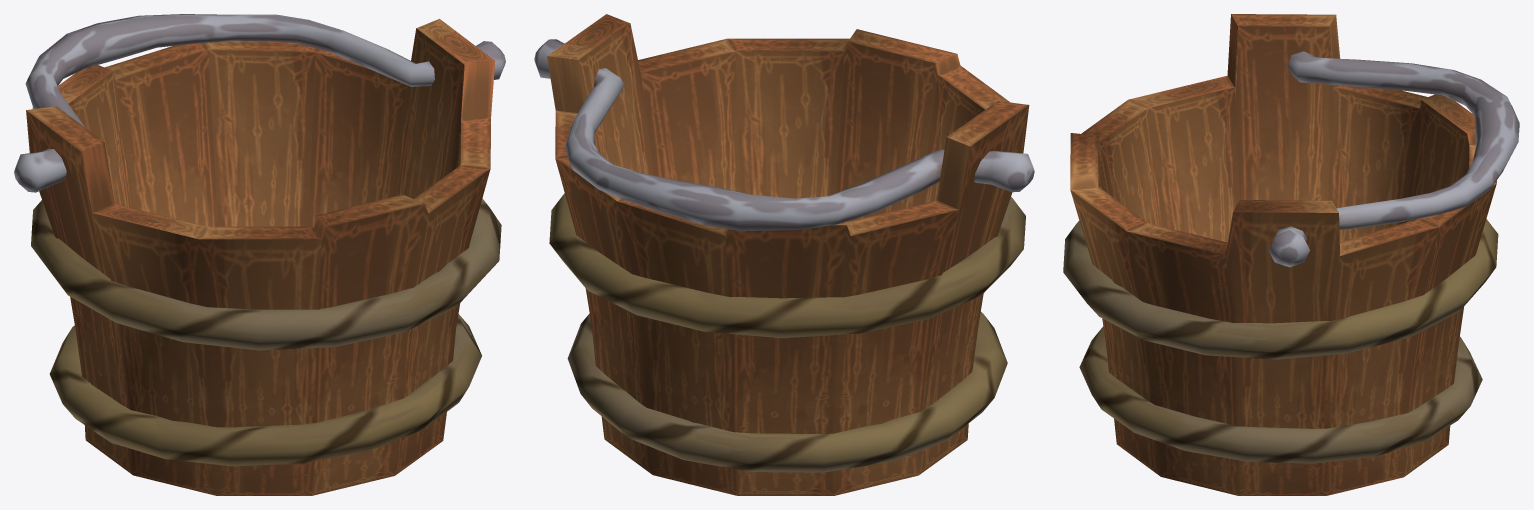
Rendered from Bucket_Wooden_1.gltf.
3 views of the same model, side by side, from view 1: azimuth 30°, elevation 25°; view 2: azimuth 150°, elevation 25°; view 3: azimuth 270°, elevation 25° (orthographic). The views are drawn at different scales.
Parts seen in each view (by area): view 1: Bucket_Wooden_1; view 2: Bucket_Wooden_1; view 3: Bucket_Wooden_1.
Part boxes in pixels (left/top/right/bottom): Bucket_Wooden_1: left=14, top=14, right=505, bottom=495; Bucket_Wooden_1: left=534, top=14, right=1034, bottom=495; Bucket_Wooden_1: left=1063, top=14, right=1519, bottom=495.
Size of the model in its own units: 0.4339 by 0.2928 by 0.3835.
Materials: 2 (2 with a texture image).
